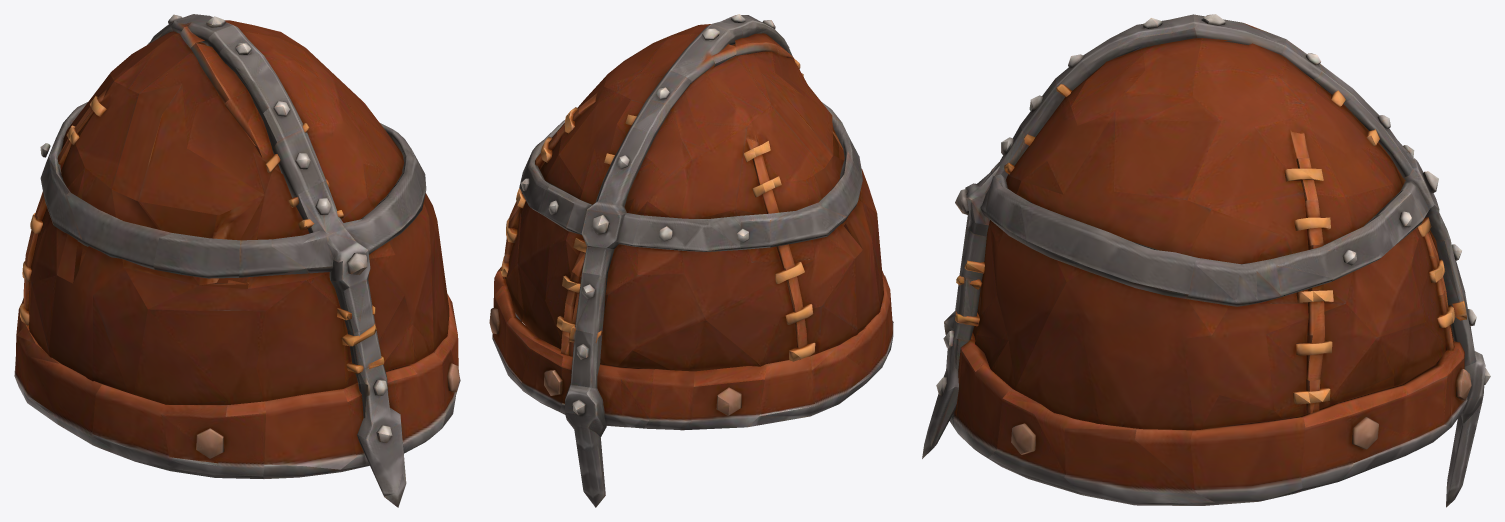
Rendered from iron-helmet.glb.
3 views of the same model, side by side, from view 1: azimuth 30°, elevation 25°; view 2: azimuth 150°, elevation 25°; view 3: azimuth 270°, elevation 25° (orthographic). The views are drawn at different scales.
Visible parts, largest first — view 1: Module_native_iron_helmet; view 2: Module_native_iron_helmet; view 3: Module_native_iron_helmet.
Part boxes in pixels (x1,y1,x2,y2): Module_native_iron_helmet: (14,14,460,507); Module_native_iron_helmet: (489,14,893,507); Module_native_iron_helmet: (922,14,1490,507).
Size of the model in its own units: 0.2089 by 0.2406 by 0.2561.
1 material, 1 textured.
